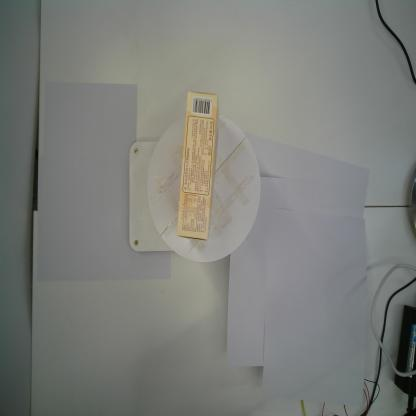Dessert: (176, 90, 218, 241)
